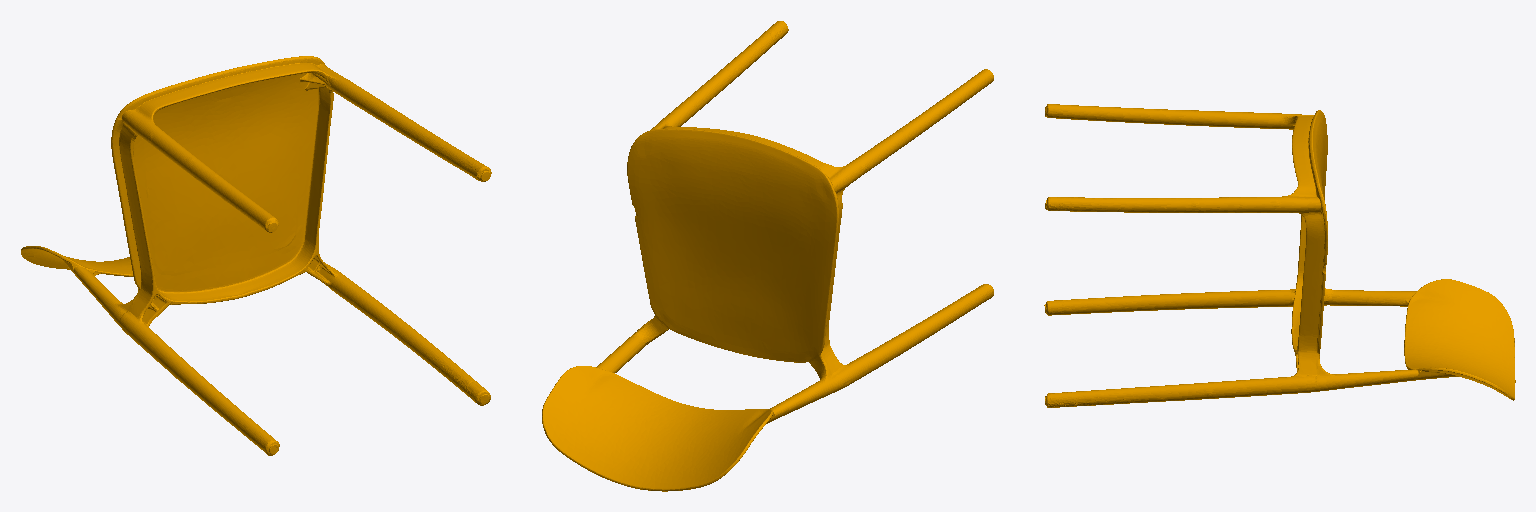
robot.urdf — shelf:
<?xml version="1.0" encoding="UTF-8"?>
<robot name="shelf">
  <link name="shelf_link">
    <visual><origin xyz="0 0 0" rpy="0 0 0"/><geometry><mesh filename="chair_2.obj" scale="1 1 1"/></geometry></visual>
    <collision><origin xyz="0 0 0" rpy="0 0 0"/><geometry><mesh filename="chair_2.obj" scale="1 1 1"/></geometry></collision>
  </link>
</robot>

--- What the picture shows (computed from the rendered views, not written in the file) ---
3 views of the same robot in one strip: view 1: azimuth 30°, elevation 25°; view 2: azimuth 150°, elevation 25°; view 3: azimuth 270°, elevation 25° (orthographic).
Model shelf with 1 links and 0 joints (none), rooted at shelf_link, posed every joint at zero.
Visible links, largest first — view 1: shelf_link; view 2: shelf_link; view 3: shelf_link.
Link boxes in pixels (box(x1,y1,x2,y2)): shelf_link: box(21, 56, 491, 455); shelf_link: box(542, 21, 993, 491); shelf_link: box(1044, 104, 1515, 407).
Bounding box of the posed robot: 0.3627 × 0.738 × 0.4269 m (x, y, z).
1 mesh visuals loaded from 1 distinct referenced files (1 OBJ).
